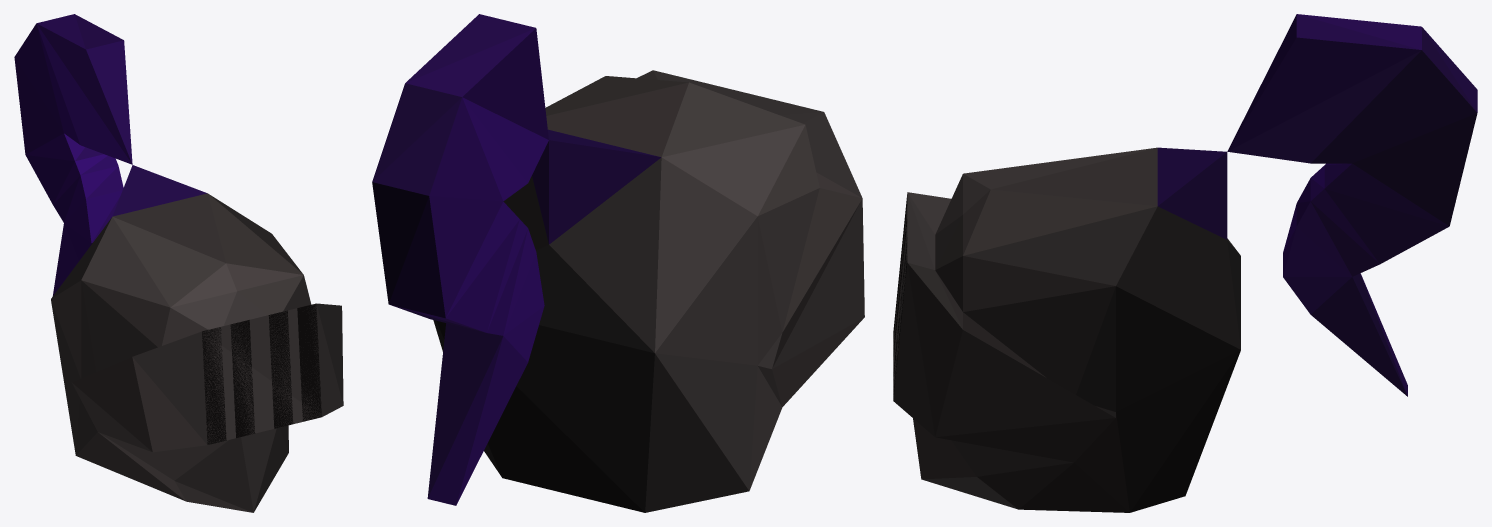
Rendered from iron-full-helm.obj.
The picture shows the model from 3 angles, left to right: view 1: azimuth 30°, elevation 25°; view 2: azimuth 150°, elevation 25°; view 3: azimuth 270°, elevation 25°; orthographic projection. The views are drawn at different scales.
Visible parts, largest first — view 1: Item Iron full helm 2026-09-24_18-11-09; view 2: Item Iron full helm 2026-09-24_18-11-09; view 3: Item Iron full helm 2026-09-24_18-11-09.
Part boxes in pixels (x1=…): Item Iron full helm 2026-09-24_18-11-09: x1=14, y1=14, x2=343, y2=512; Item Iron full helm 2026-09-24_18-11-09: x1=372, y1=14, x2=864, y2=512; Item Iron full helm 2026-09-24_18-11-09: x1=893, y1=14, x2=1477, y2=512.
Bounding box in the file's own units: 22 × 37 × 42.
